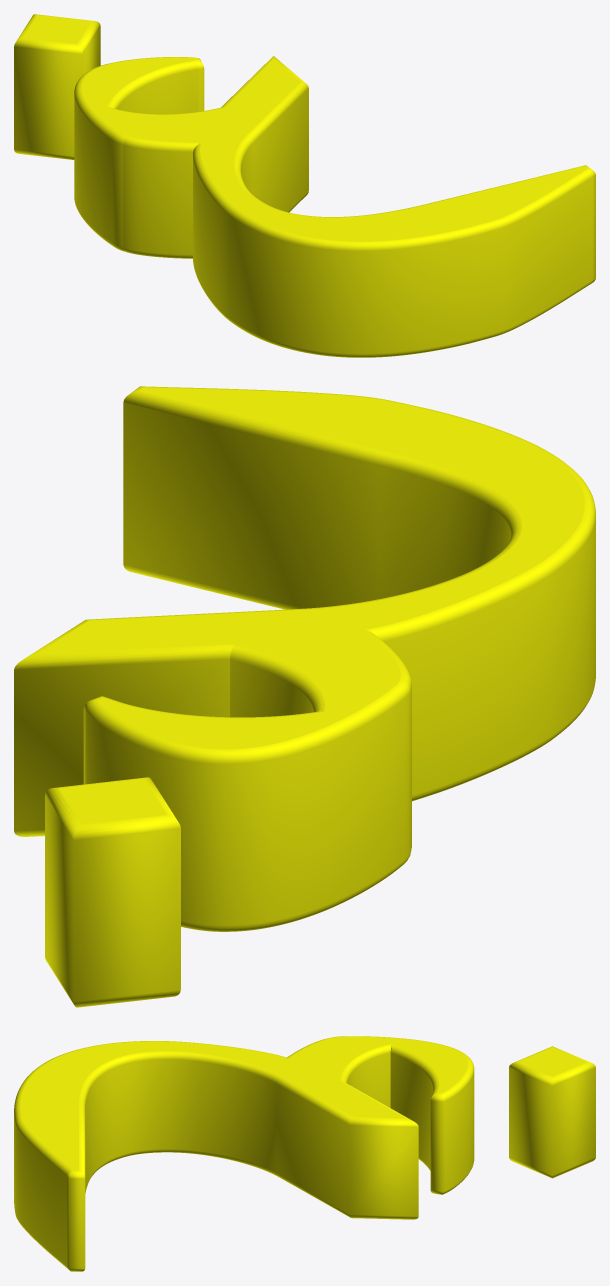
The model's file is 19 ghain.fbx.
3 views of the same model, one above another, from view 1: azimuth 30°, elevation 25°; view 2: azimuth 150°, elevation 25°; view 3: azimuth 270°, elevation 25° (orthographic). The views are drawn at different scales.
Parts seen in each view (by area): view 1: Text.110; view 2: Text.110; view 3: Text.110.
Part boxes in pixels (x1,y1,x2,y2): Text.110: [14, 14, 595, 357]; Text.110: [14, 386, 595, 1007]; Text.110: [14, 1036, 595, 1271].
Size of the model in its own units: 53.38 by 18 by 94.38.
